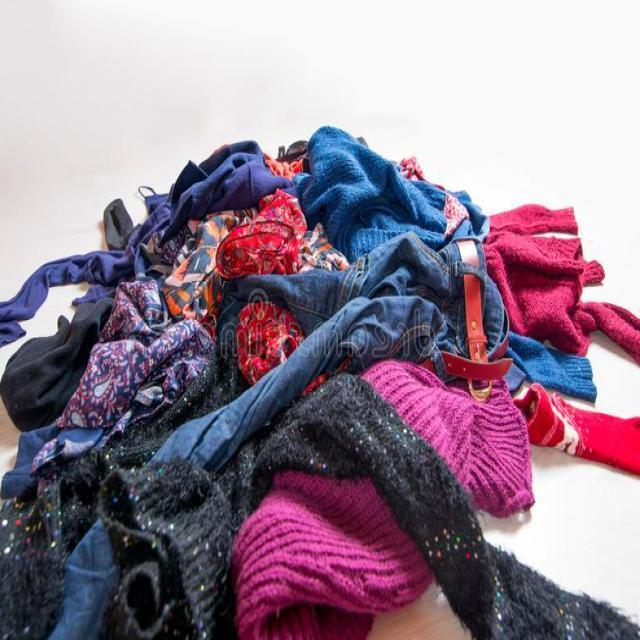clothes: (38, 217, 552, 640)
